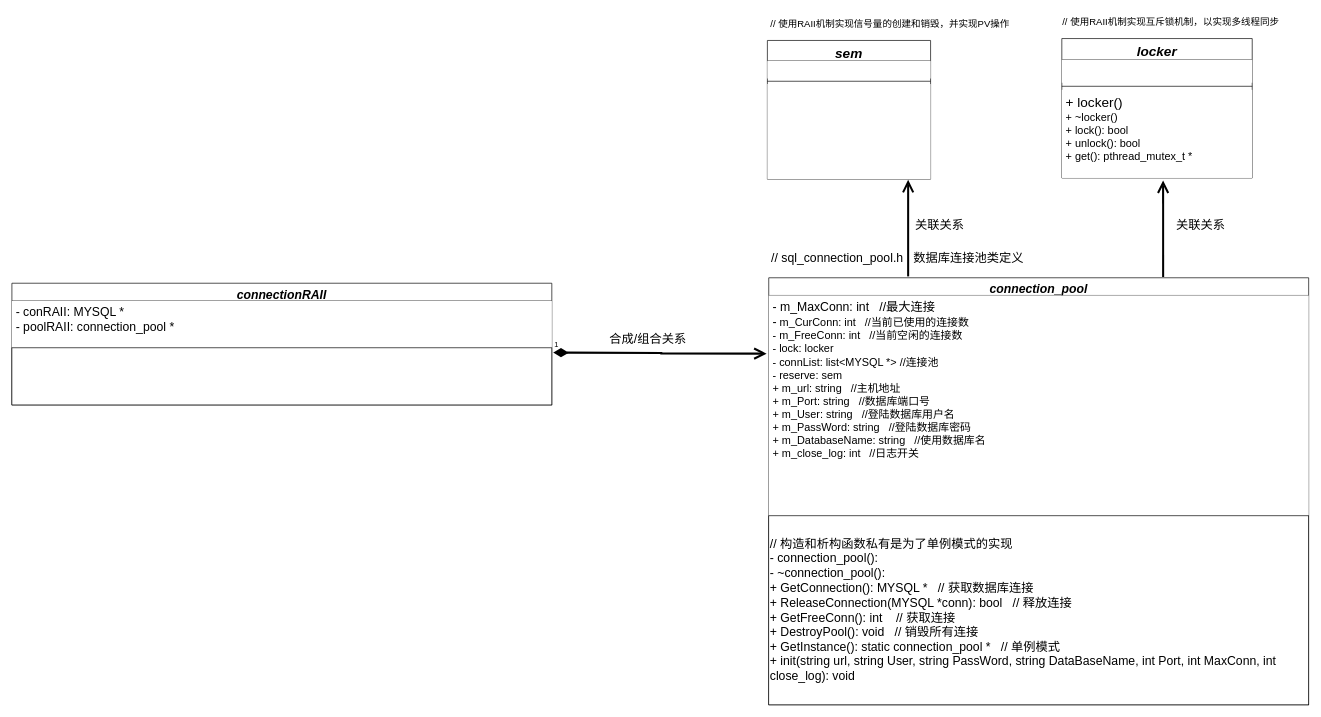
Some shapes in this 1321 by 717 pixel diagram are drawn without their labels. Here are the shapes that lost their labels. From the top down, the centre of each, then its label:
At pixel 848 69: "- m_sem: sem_t".
At pixel 1156 70: "- m_mutex: pthread_mutex_t".
At pixel 848 131: "+ sem() + sem(int num) + ~sem() + wait(): bool + post(): bool".
At pixel 281 376: "+ connectionRAII(MYSQL **con, connection_pool *connPool) + ~connectionRAII()".
